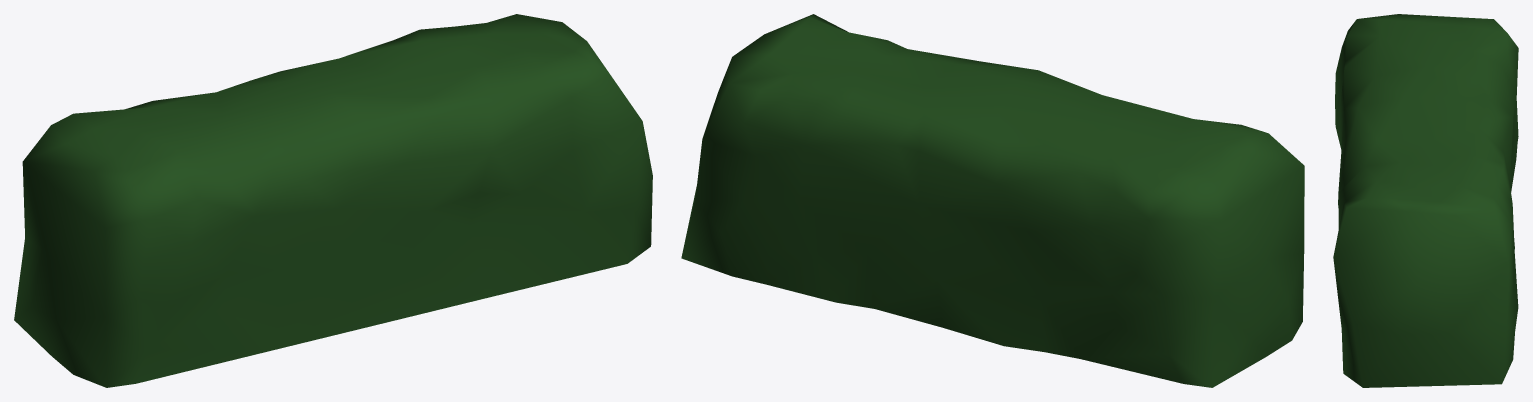
3 renders of one model, left to right at view 1: azimuth 30°, elevation 25°; view 2: azimuth 150°, elevation 25°; view 3: azimuth 270°, elevation 25°, orthographic. The views are drawn at different scales.
Parts seen in each view (by area): view 1: bush_001; view 2: bush_001; view 3: bush_001.
Part boxes in pixels (x1,y1,x2,y2): bush_001: [14, 14, 652, 387]; bush_001: [681, 14, 1304, 387]; bush_001: [1333, 14, 1518, 387].
Bounding box in the file's own units: 3.11 × 1.08 × 1.04.
